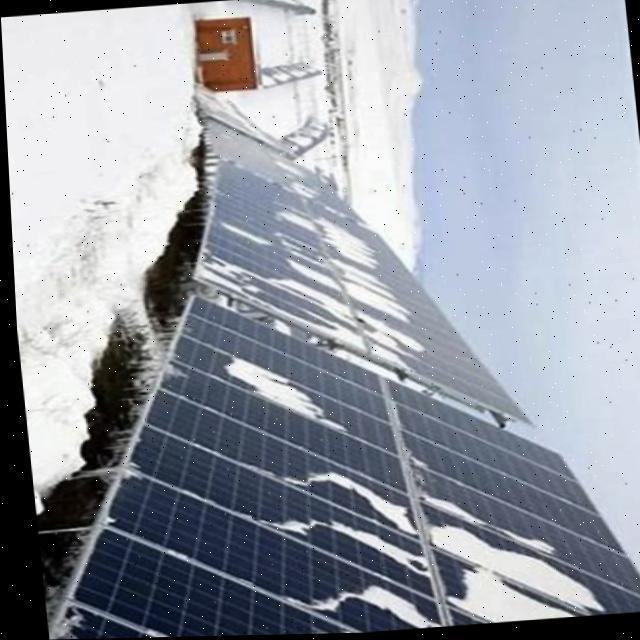Anomaly Solar Panel: (44, 292, 640, 640), (189, 154, 531, 430)
Normal Solar Panel: (387, 402, 593, 517), (382, 378, 572, 483)
Snow: (257, 266, 424, 378), (421, 518, 606, 615), (249, 443, 426, 538), (256, 496, 433, 581), (278, 232, 425, 333), (217, 344, 360, 441), (285, 571, 445, 631), (269, 192, 386, 274), (438, 561, 579, 625), (190, 244, 282, 309), (217, 211, 272, 255), (362, 341, 412, 375)
